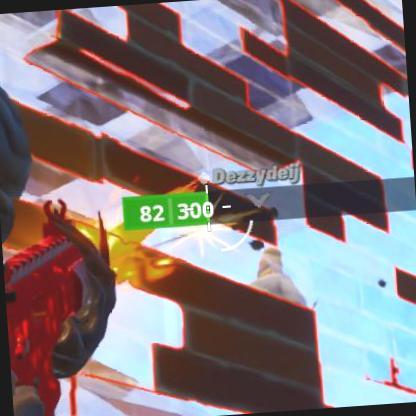person: (242, 254, 319, 380)
